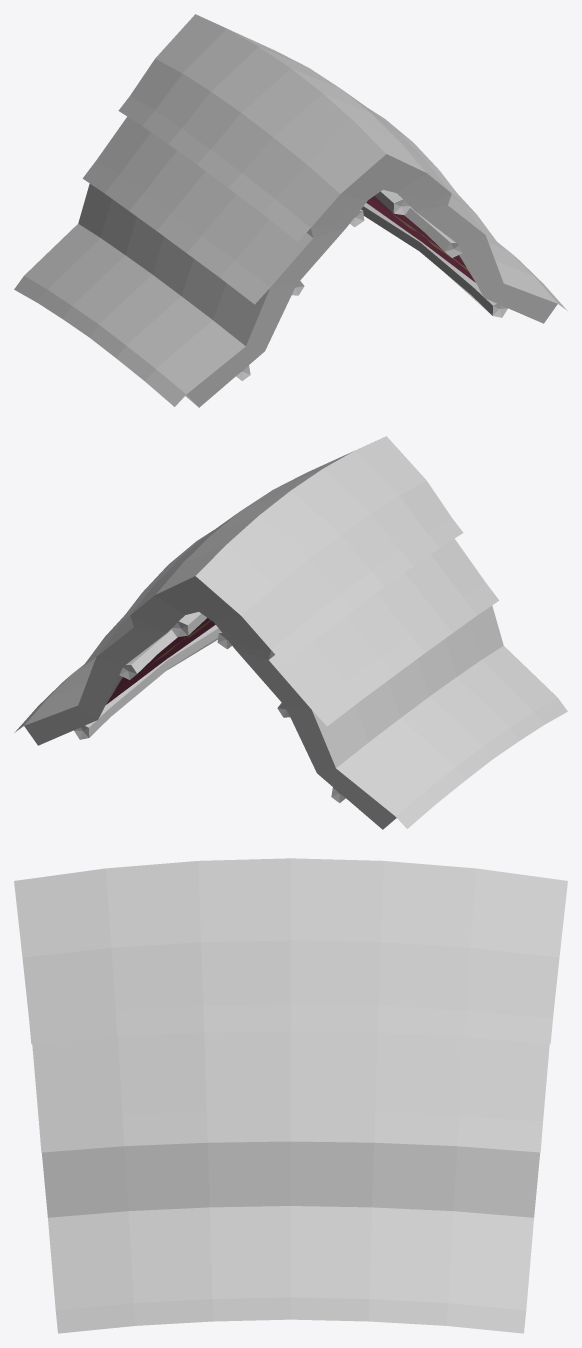
Rendered from SM_Bld_Roof_Thatch_Preset_S_01.fbx.
The picture shows the model from 3 angles, top to bottom: view 1: azimuth 30°, elevation 25°; view 2: azimuth 150°, elevation 25°; view 3: azimuth 270°, elevation 25°; orthographic projection. The views are drawn at different scales.
Parts seen in each view (by area): view 1: SM_Bld_Roof_Thatch_Preset_S_01; view 2: SM_Bld_Roof_Thatch_Preset_S_01; view 3: SM_Bld_Roof_Thatch_Preset_S_01.
Part boxes in pixels (x1,y1,x2,y2): SM_Bld_Roof_Thatch_Preset_S_01: (14, 14, 567, 407); SM_Bld_Roof_Thatch_Preset_S_01: (14, 436, 567, 829); SM_Bld_Roof_Thatch_Preset_S_01: (14, 858, 567, 1333).
Bounding box in the file's own units: 617 × 349 × 507.
